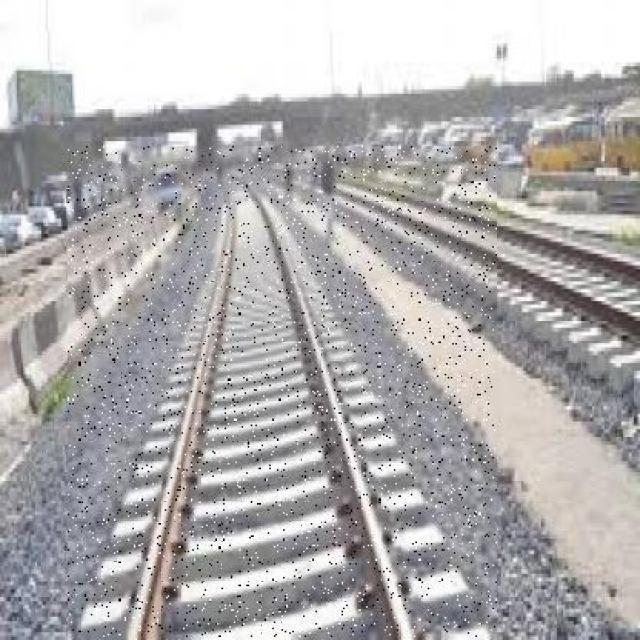rail: (69, 148, 497, 638), (288, 173, 640, 362)
